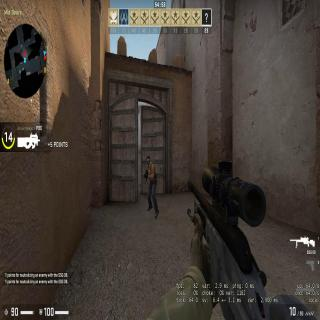T-Body: (145, 151, 158, 221)
T-Head: (147, 154, 150, 165)
